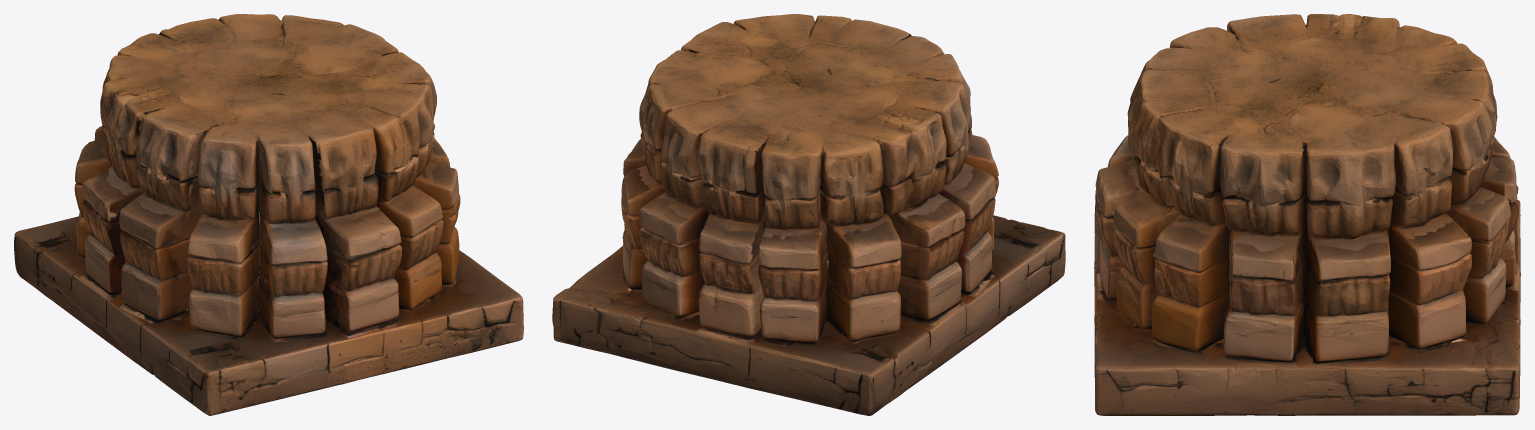
File: amalaka-spire-stone-optimized.glb
3 renders of one model, left to right at view 1: azimuth 30°, elevation 25°; view 2: azimuth 150°, elevation 25°; view 3: azimuth 270°, elevation 25°, orthographic. The views are drawn at different scales.
Visible parts, largest first — view 1: 37ce8607-8c46-4562-997e-3451ae90f1dc_texturing.obj; view 2: 37ce8607-8c46-4562-997e-3451ae90f1dc_texturing.obj; view 3: 37ce8607-8c46-4562-997e-3451ae90f1dc_texturing.obj.
Part boxes in pixels (x1,y1,x2,y2): 37ce8607-8c46-4562-997e-3451ae90f1dc_texturing.obj: [14, 14, 523, 415]; 37ce8607-8c46-4562-997e-3451ae90f1dc_texturing.obj: [552, 14, 1065, 415]; 37ce8607-8c46-4562-997e-3451ae90f1dc_texturing.obj: [1094, 14, 1520, 415].
Size of the model in its own units: 1.7 by 1.17 by 1.8.
1 material, 1 textured.
